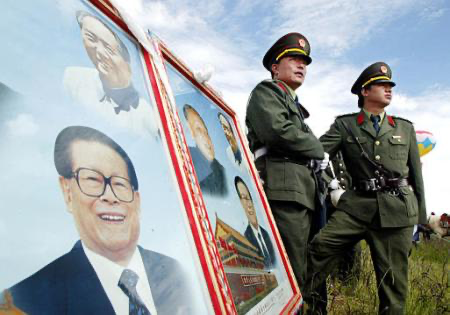Face: (53, 135, 149, 259), (75, 12, 140, 97), (179, 108, 218, 160), (231, 179, 261, 227), (275, 53, 310, 87), (370, 82, 396, 106)
